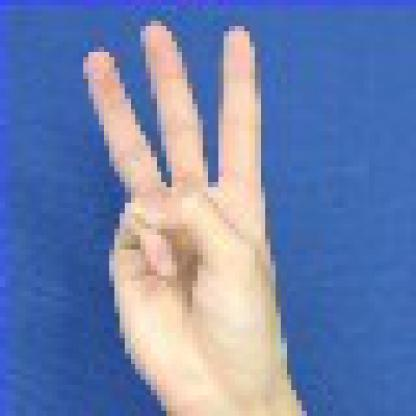three: (72, 16, 311, 407)
